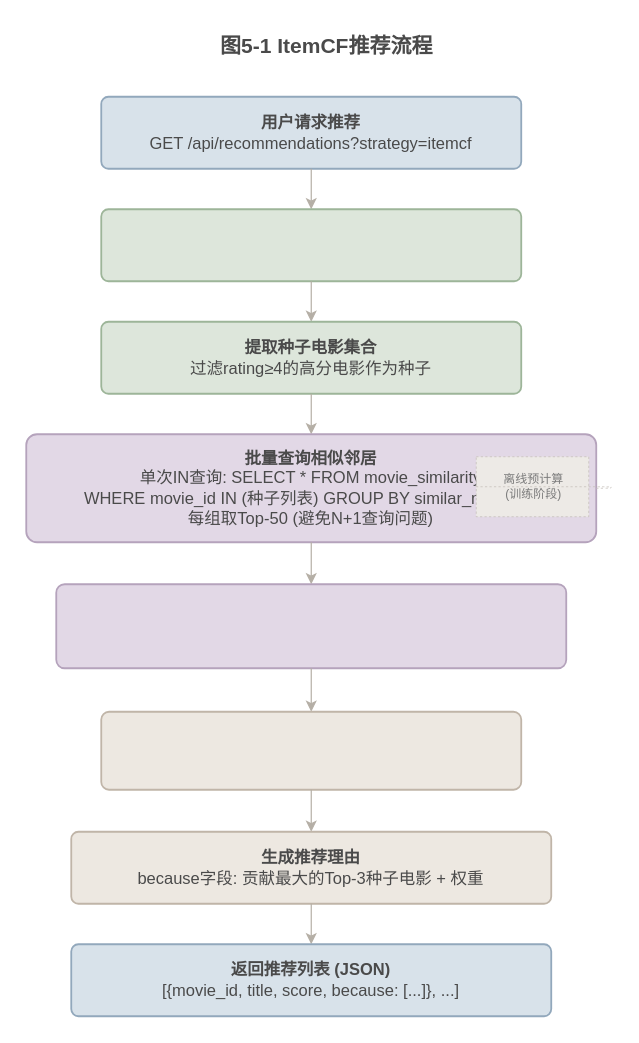
Some shapes in this 639 by 1043 pixel diagram are drawn without their labels. The centre of each missing label's shape, as x and y in pixels:
"获取用户评分历史 SELECT * FROM ratings WHERE user_id = ?" goes at [310,244].
"计算候选得分 Score(j) = Σ sim(i, j) × R(u, i) (相似度 × 用户原评分 的加权累加)" goes at [310,625].
"过滤 + 排序 + 截断 排除已评分电影 → 按得分降序 → 取Top-N" goes at [310,750].
